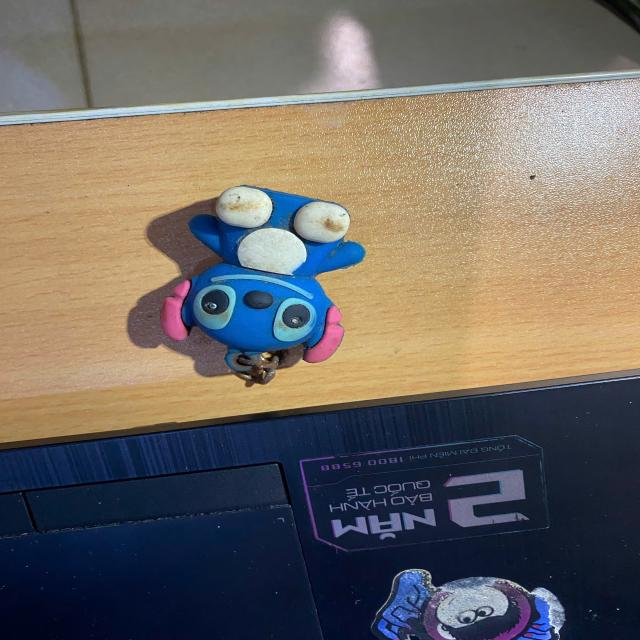stick: (160, 185, 367, 389)
